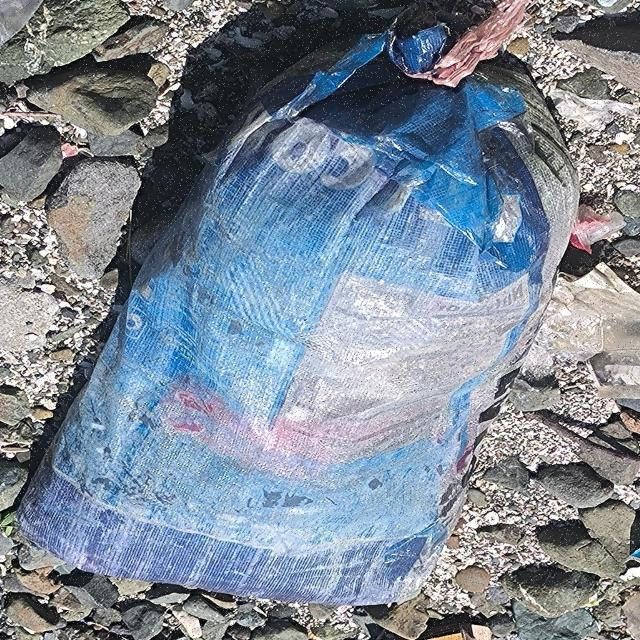plastic_waste: (16, 32, 581, 606)
